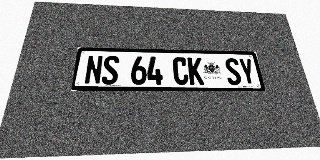4: (147, 56, 163, 85)
6: (131, 56, 147, 85)
C: (172, 57, 189, 85)
K: (187, 57, 204, 85)
N: (84, 55, 103, 85)
S: (101, 55, 119, 85), (224, 58, 242, 85)
Y: (238, 58, 257, 85)
